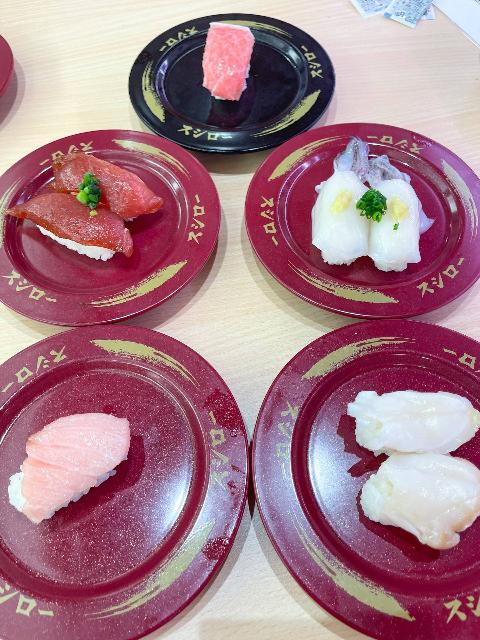janback: (152, 26, 329, 133)
janred: (0, 339, 240, 603), (287, 339, 480, 607), (8, 139, 231, 313), (266, 114, 470, 298), (0, 17, 19, 95)
